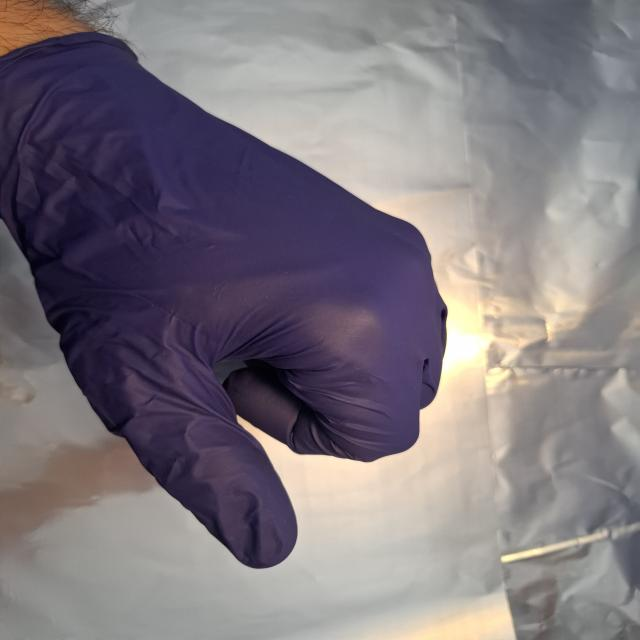glove_on: (1, 29, 454, 574)
